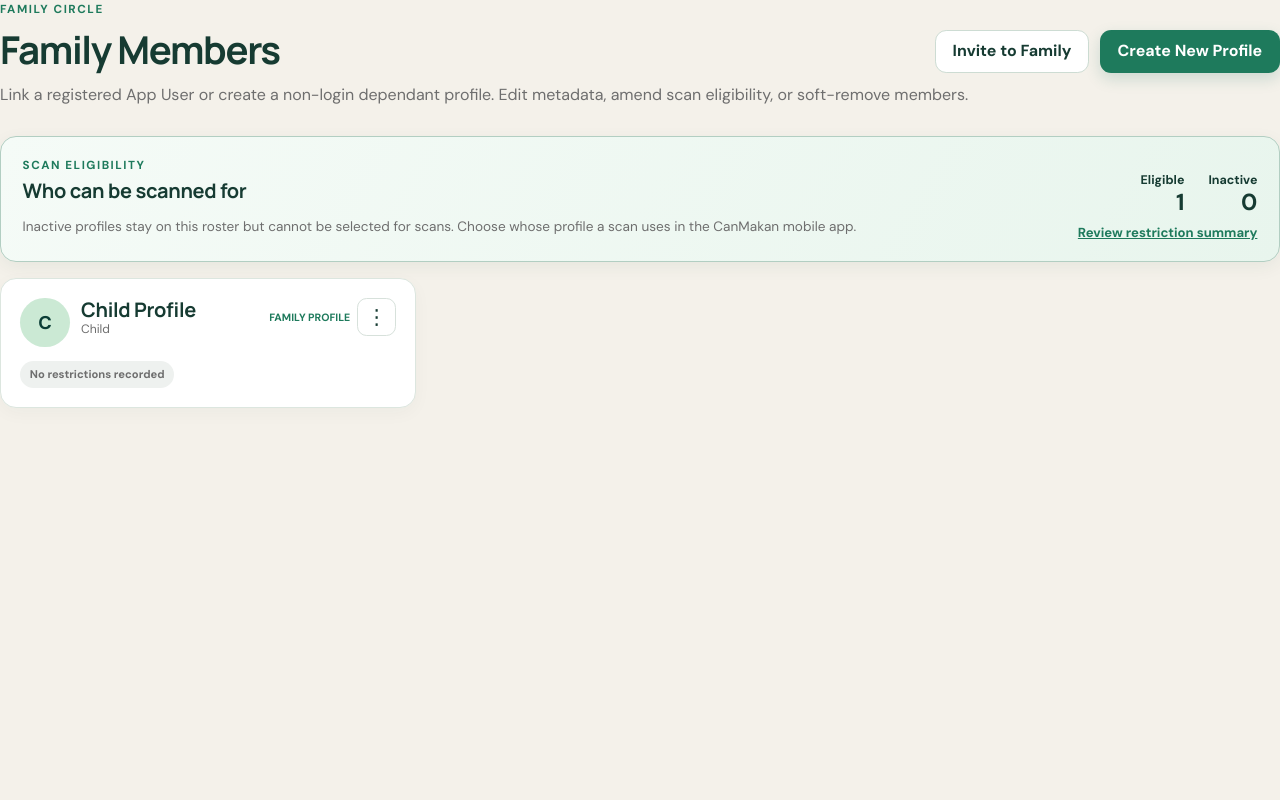
Test: FamilyMembersPage › confirms deactivate then shows success notice
The width and height of the screenshot is (1280, 800).
Expected: the heading "Child Profile" is shown, [81, 296, 196, 323]
Click the button named "Actions for Child Profile" at (377,317), box [357, 298, 396, 336]
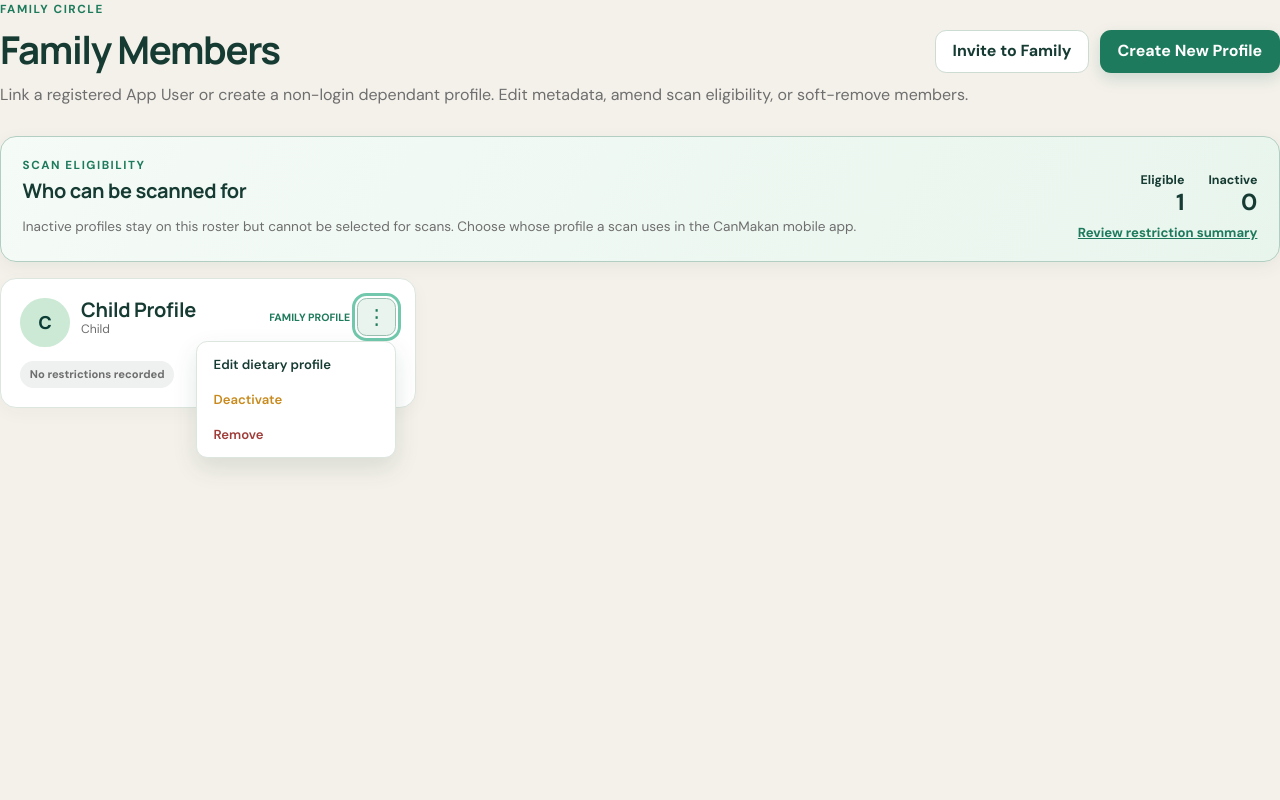
Click the menu item "Deactivate" at (296,400), box [202, 382, 389, 417]
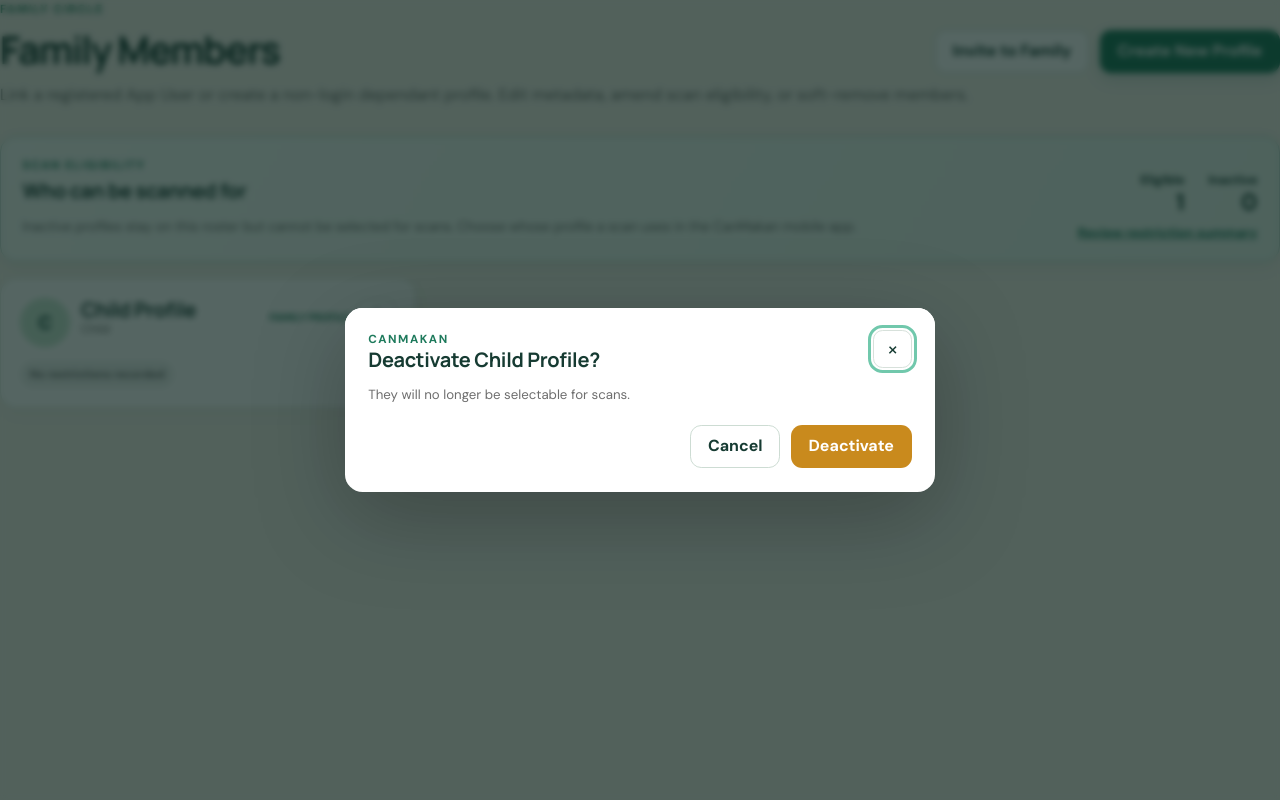
Expected: the dialog "Deactivate Child Profile?" is shown, [345, 308, 935, 492]
Click the button "Deactivate" at (851,446), box [791, 425, 912, 468]
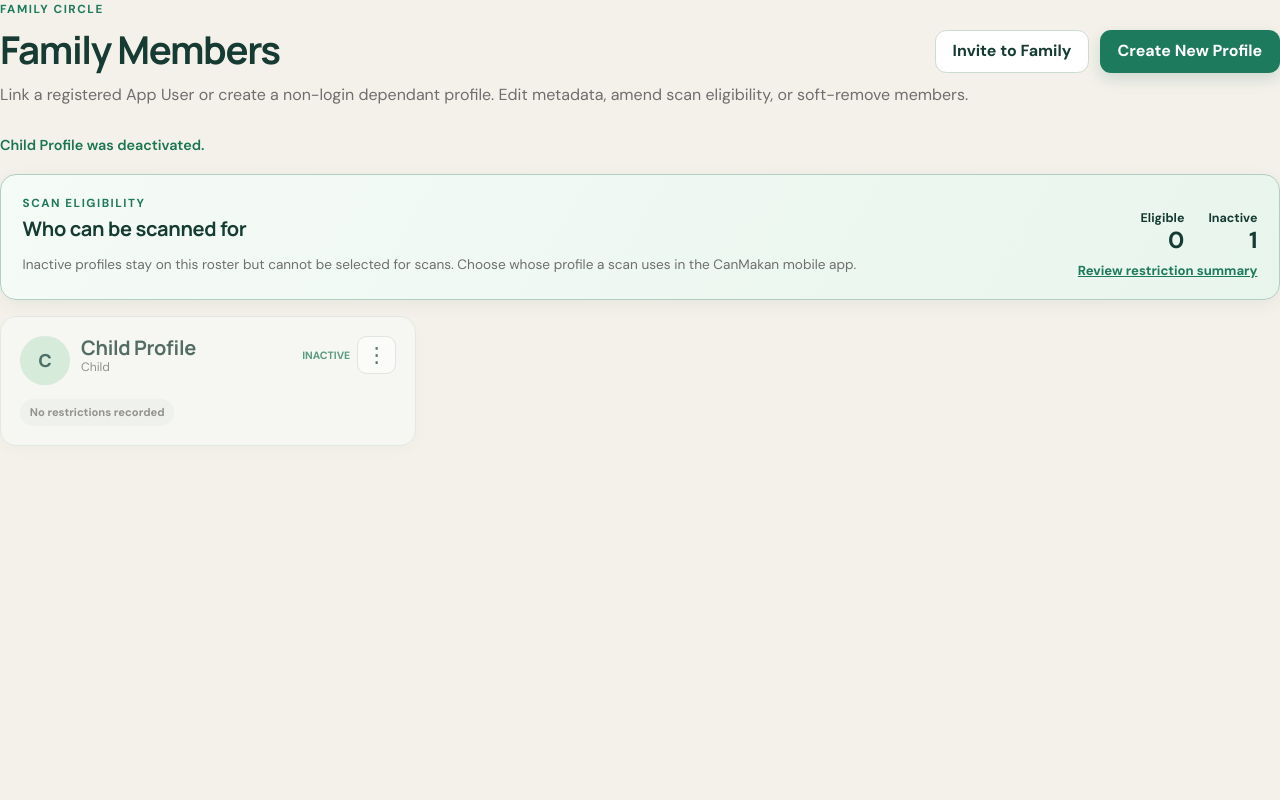
Expected: the text "Child Profile was deactivated." is shown, [0, 136, 204, 154]
